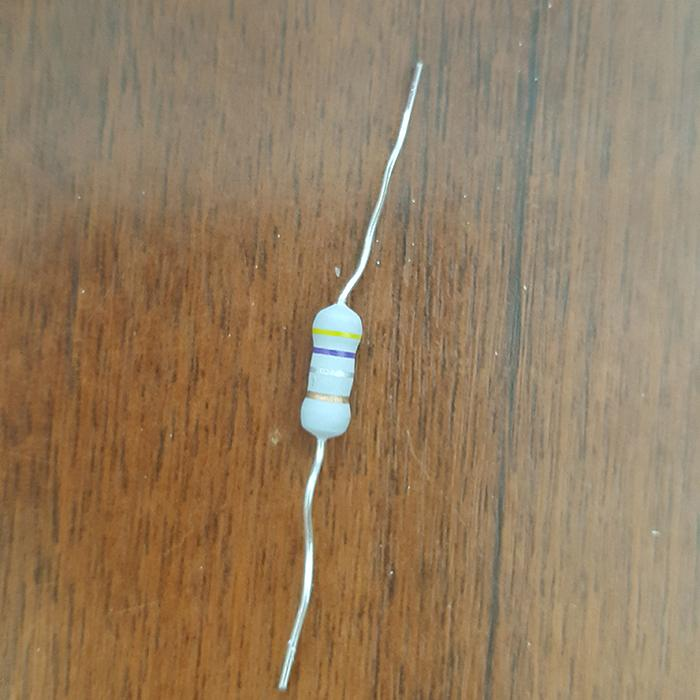resistor: (301, 301, 364, 439)
